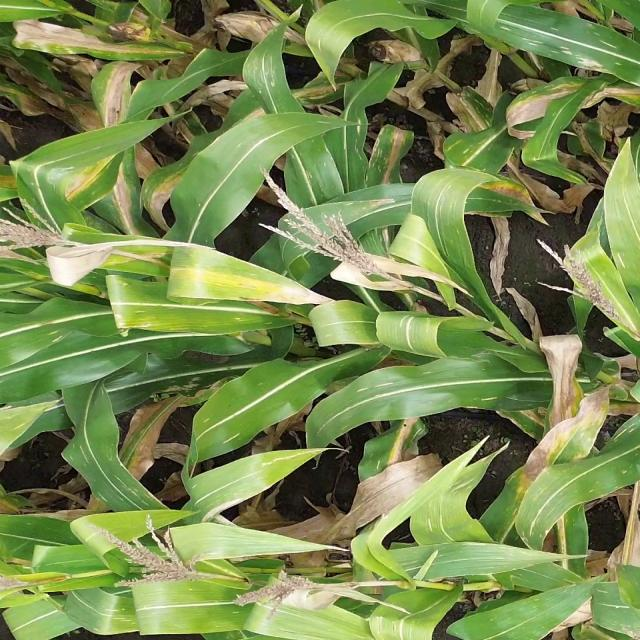gray-leaf-spot: (483, 20, 640, 78), (67, 444, 165, 512)
northern-leaf-blight: (18, 23, 179, 234), (510, 386, 620, 495), (495, 87, 640, 141), (169, 261, 307, 300), (477, 174, 543, 220), (372, 128, 411, 186)
southern-leaf-blight: (425, 174, 470, 274), (243, 42, 292, 112)
